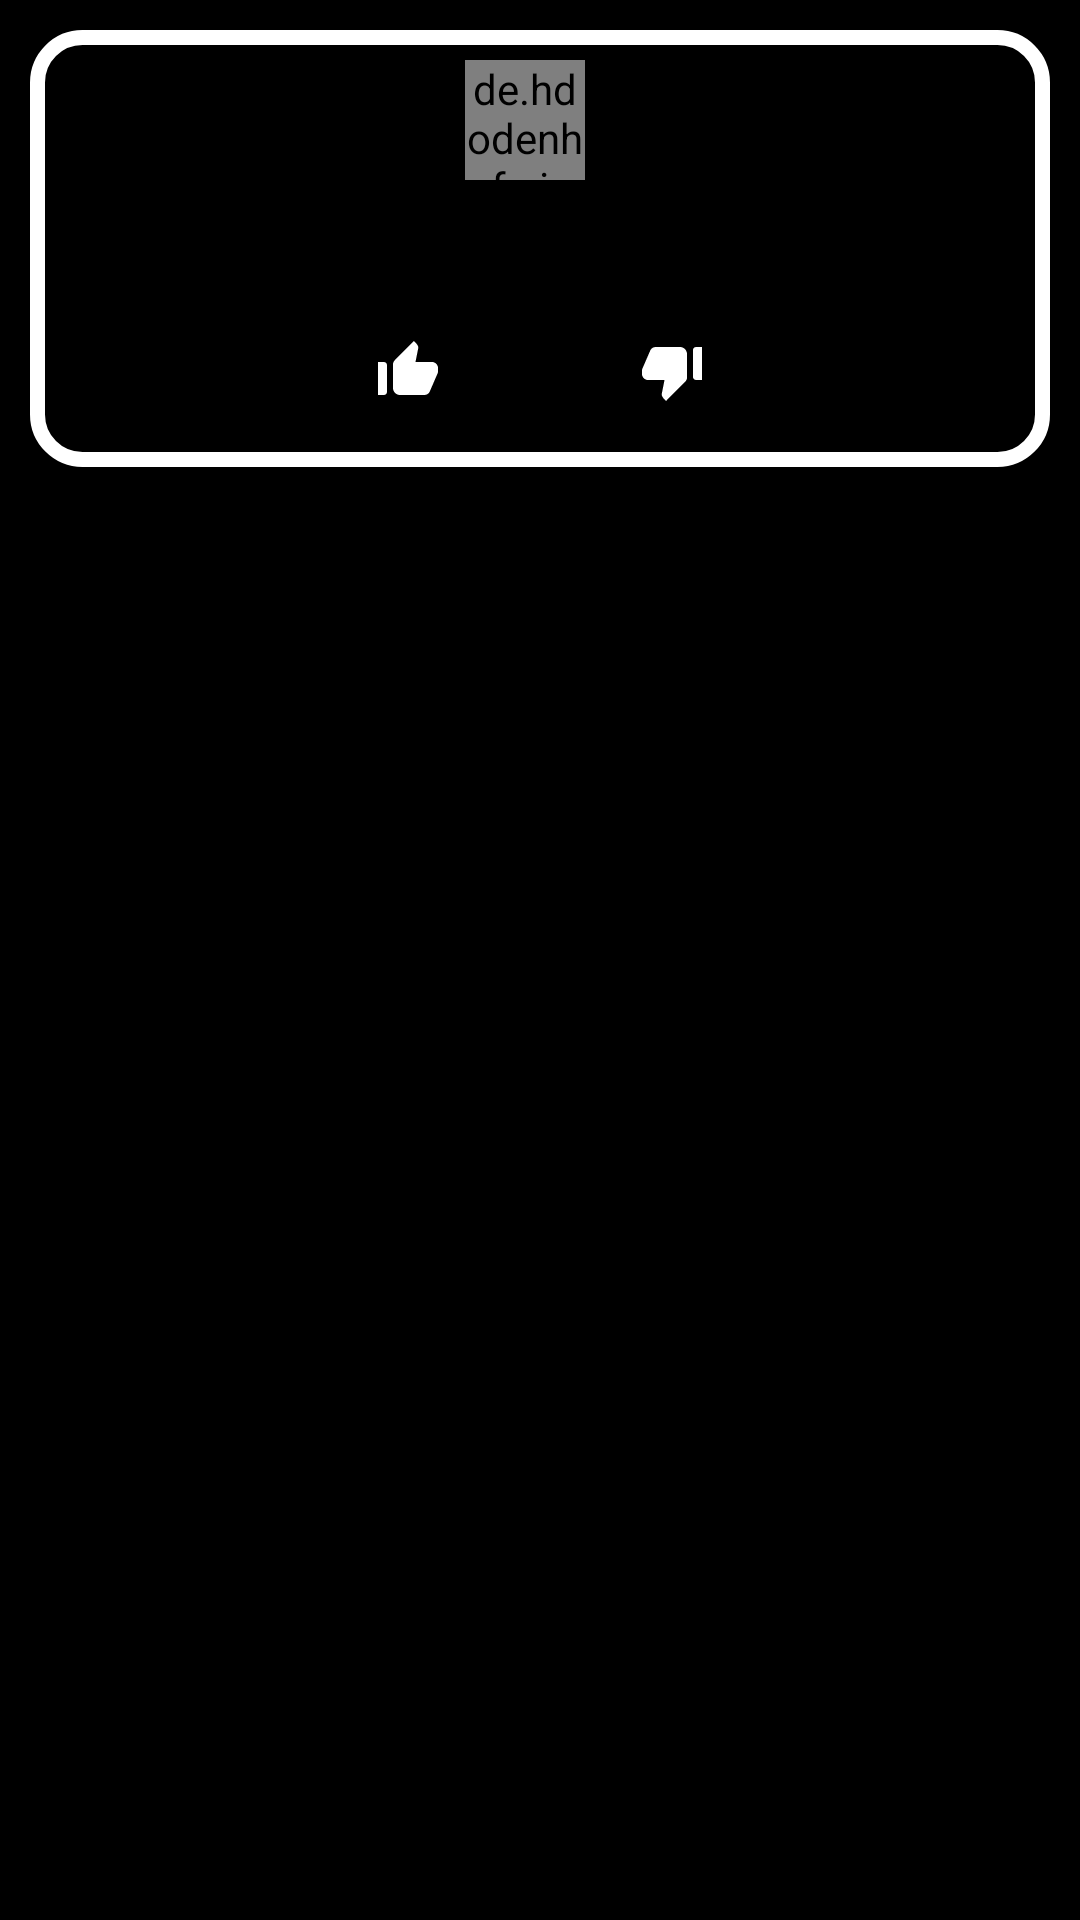

Icons on this 1080x1920 Android screen, each with its box as (x1, y1, x2, y2):
dislike: (642, 347, 702, 401)
like: (378, 341, 438, 395)
